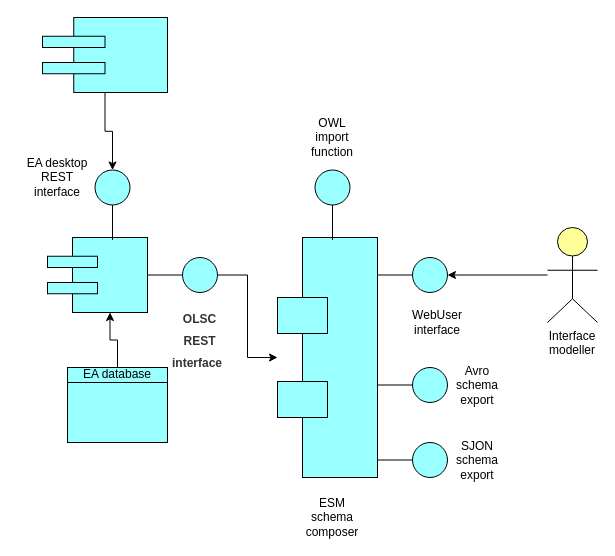
The diagram is 615 pixels wide and 556 high, and some of its shapes have lost their labels. The shapes that lost their labels are listed below. From the top down, each one's centre as x and y in pixels, then its label:
At [105,54]: "Enterprise architect desktop".
At [97,274]: "Procloud server".
